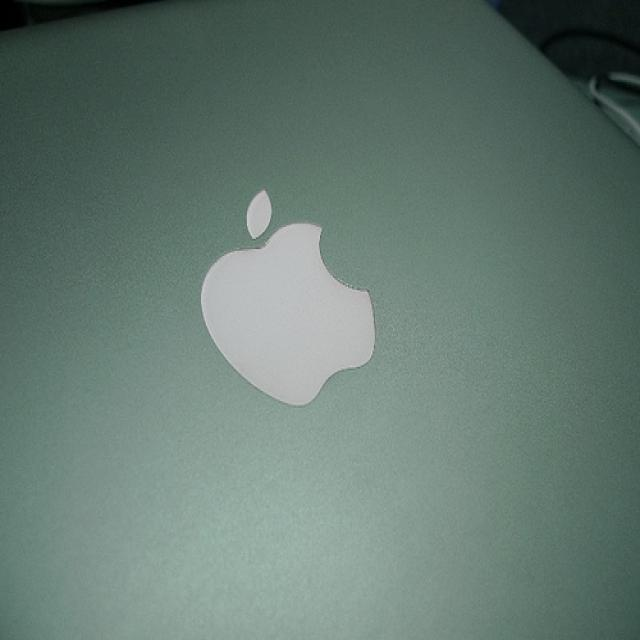apple: (192, 177, 385, 417)
